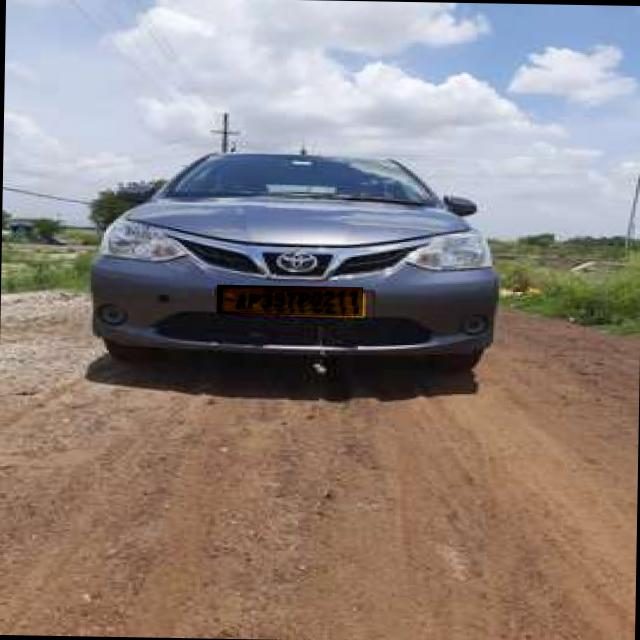Plate: (217, 285, 364, 317)
